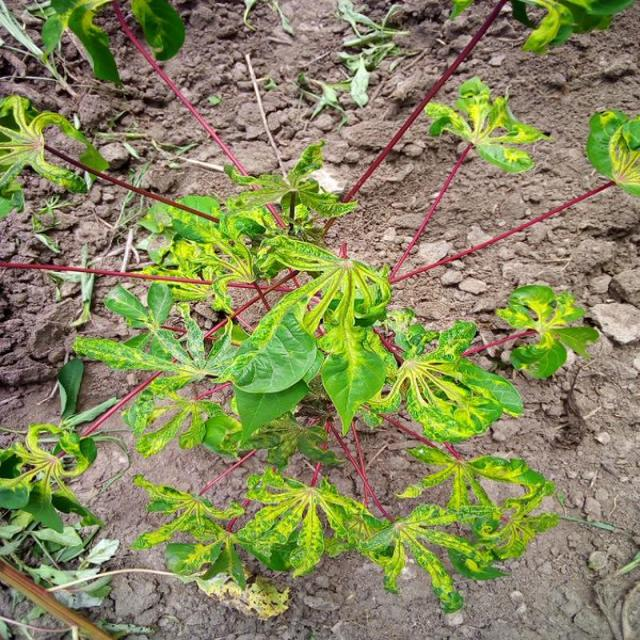cassava leaf: (585, 107, 639, 197)
